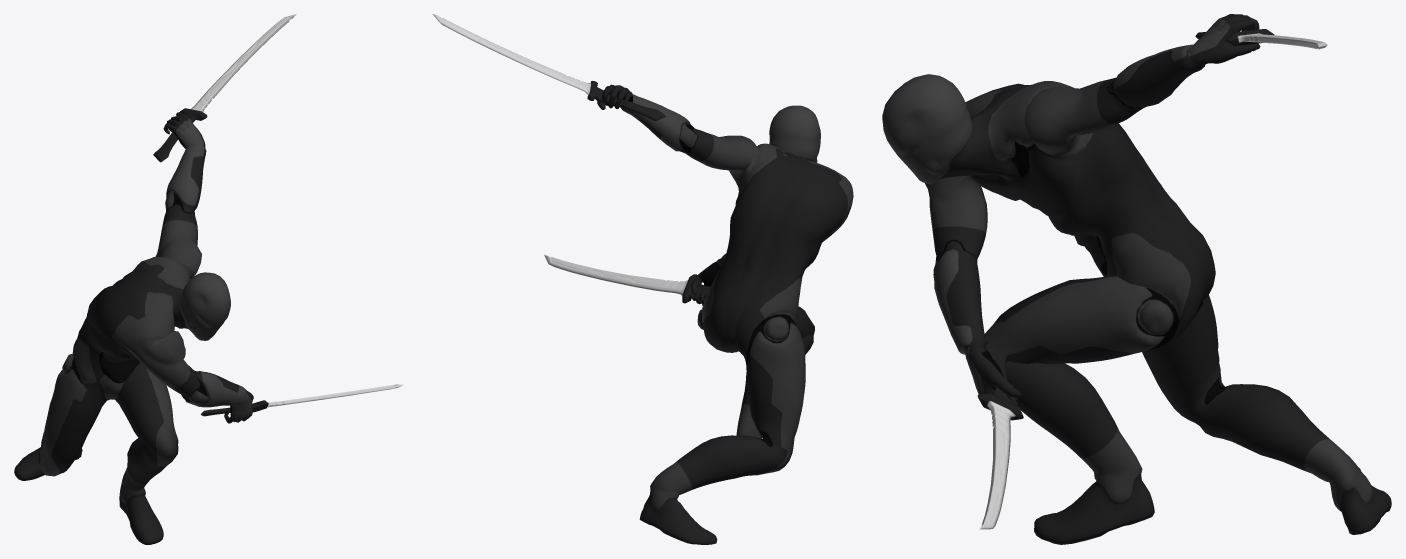
3 renders of one model, left to right at view 1: azimuth 30°, elevation 25°; view 2: azimuth 150°, elevation 25°; view 3: azimuth 270°, elevation 25°, orthographic. The views are drawn at different scales.
Parts seen in each view (by area): view 1: Cyborg_Ninja_Killer, Sword_l, Sword_l001; view 2: Cyborg_Ninja_Killer, Sword_l, Sword_l001; view 3: Cyborg_Ninja_Killer, Sword_l001, Sword_l.
Boxes of the visible parts, box(x1,y1,x2,y2) form: Cyborg_Ninja_Killer: box(14, 112, 253, 544); Sword_l: box(153, 14, 296, 162); Sword_l001: box(201, 384, 403, 416); Cyborg_Ninja_Killer: box(597, 84, 853, 544); Sword_l: box(432, 14, 665, 120); Sword_l001: box(544, 254, 710, 303); Cyborg_Ninja_Killer: box(882, 14, 1391, 544); Sword_l001: box(977, 341, 1023, 529); Sword_l: box(1195, 29, 1327, 49).
Size of the model in its own units: 131 by 175 by 121.
Materials: 2 (2 with a texture image).
